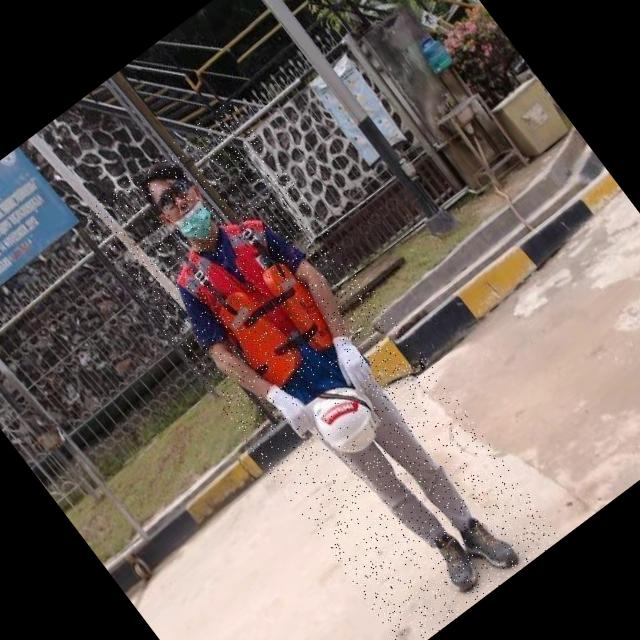hard_hat: (288, 362, 398, 473)
safety_vest: (162, 200, 374, 428)
vehicle: (76, 99, 562, 640)
work_boots: (451, 504, 526, 584), (424, 526, 488, 595)
